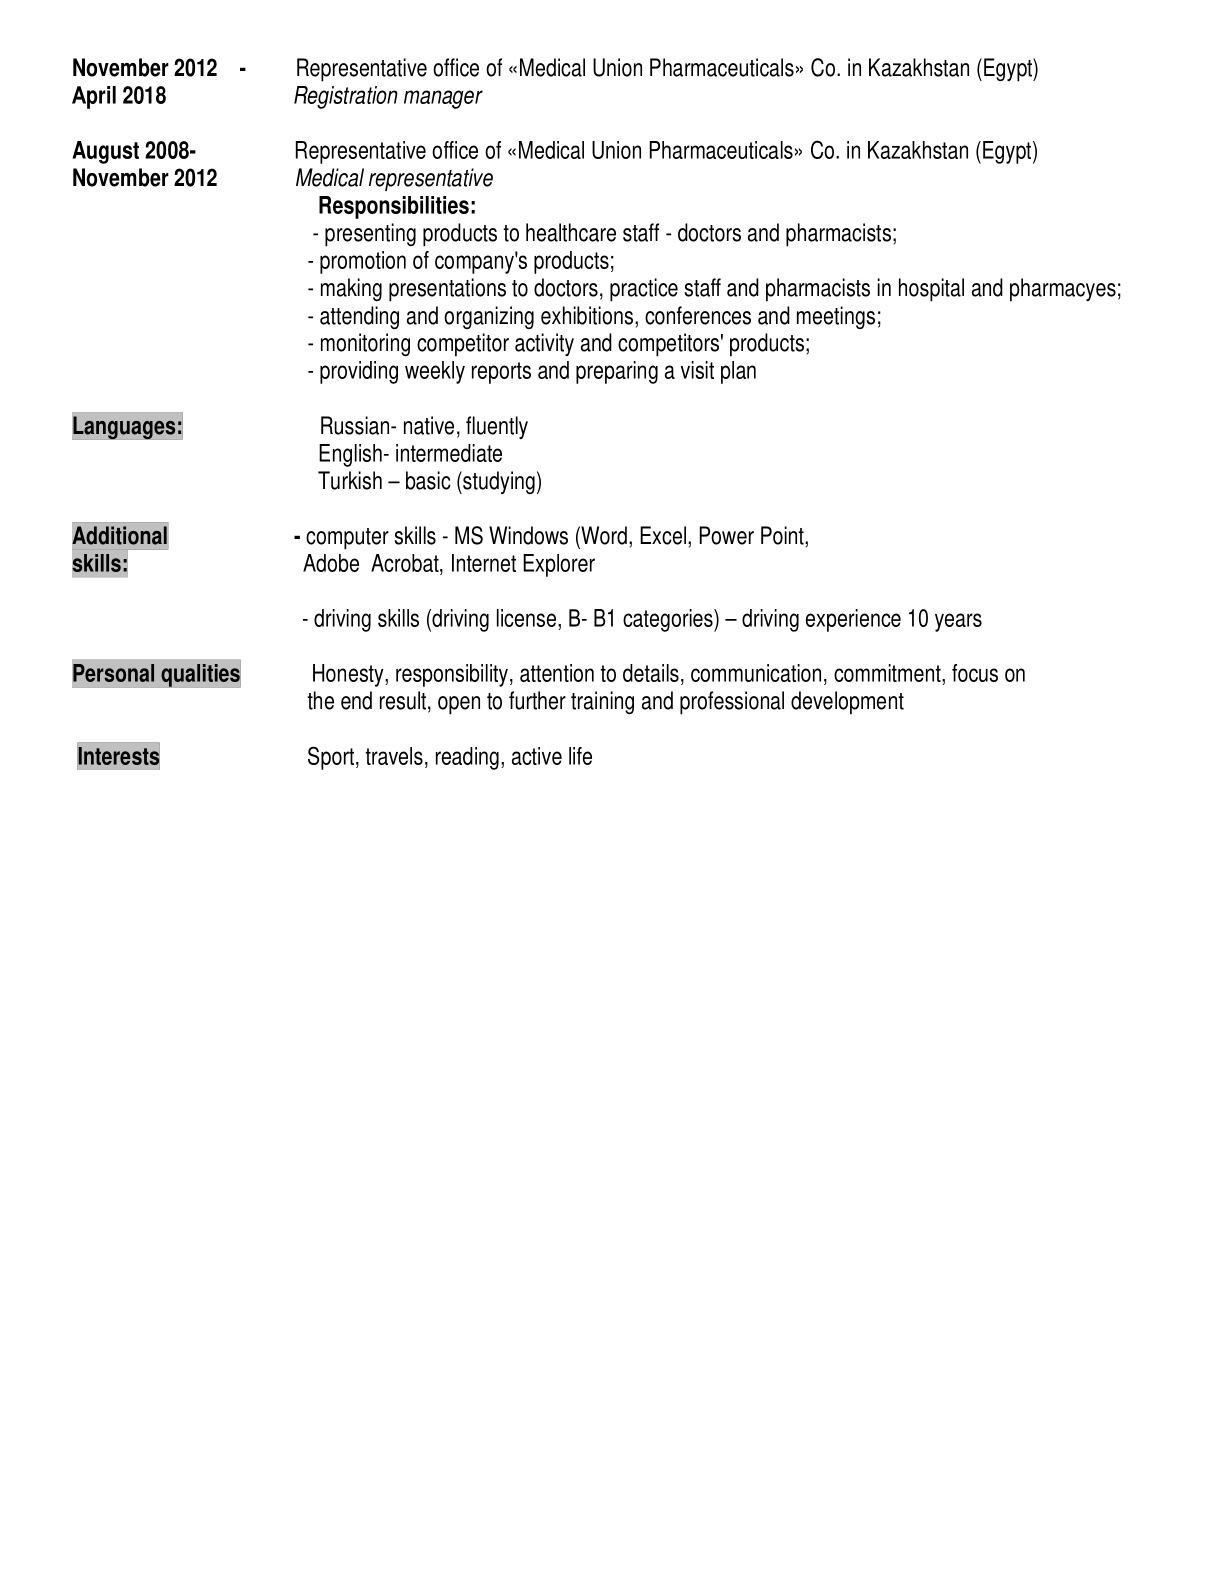nolines: (69, 50, 1126, 773)
